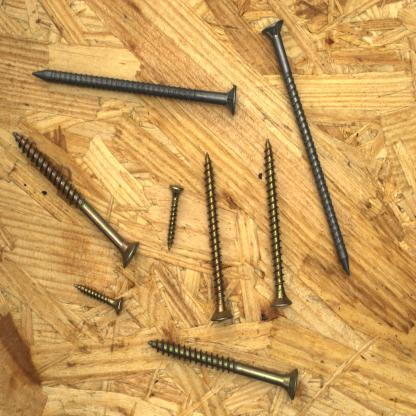screw: (259, 19, 352, 278), (12, 131, 142, 268), (30, 66, 238, 118), (145, 337, 300, 403), (264, 137, 293, 309), (205, 150, 233, 323), (73, 282, 125, 318), (165, 182, 185, 252)
